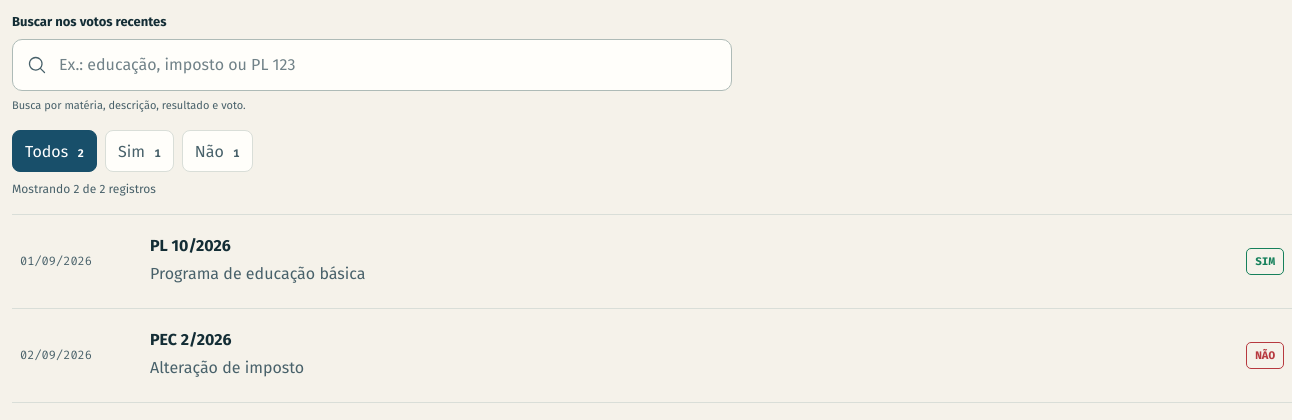
VoteTimeline › searches recent votes without requiring accents
This screenshot has width=1292, height=420.
In the search field labelled "Buscar nos votos recentes": (389, 65) [47,40,731,90], type "educacao"
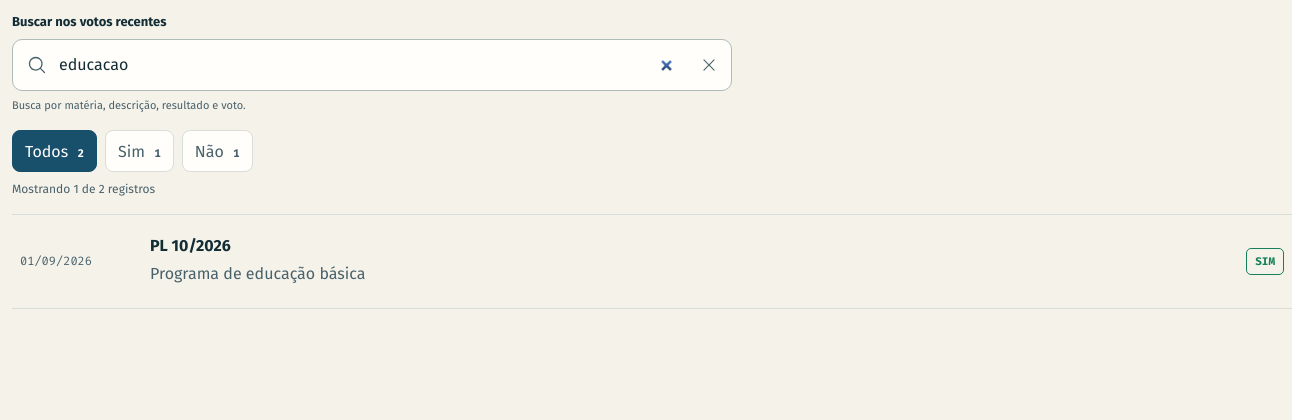
Expected: the text "Programa de educação básica" is shown, [150,264,366,283]
Result: the link "Alteração de imposto" is gone
Result: the text "Mostrando 1 de 2 registros" is shown at [12,182,155,196]
